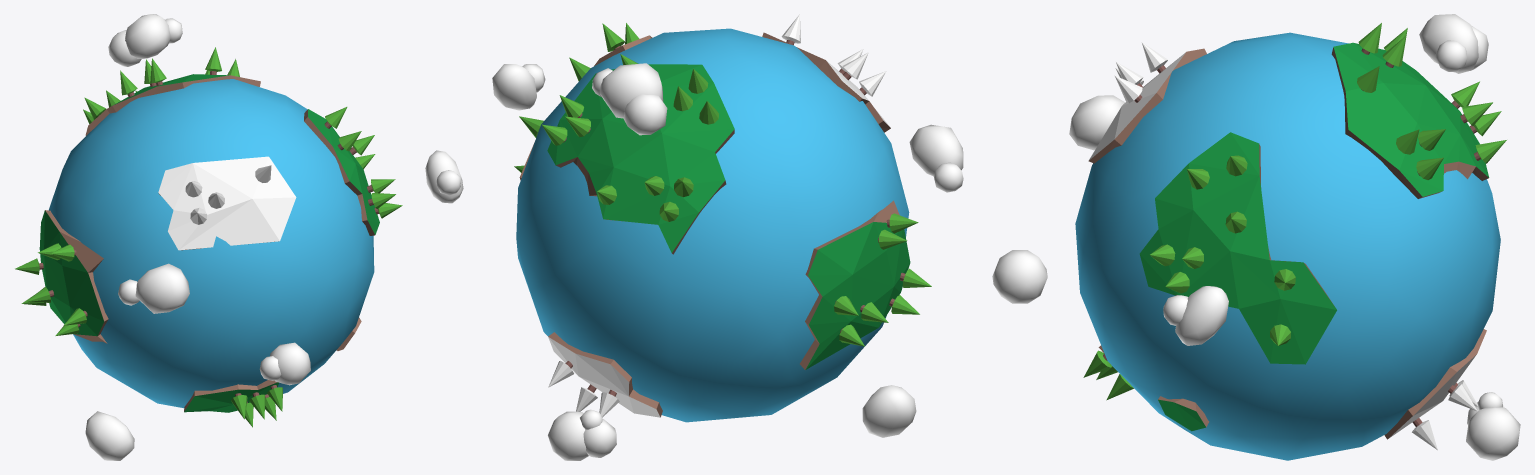
File: Planet.glb
The picture shows the model from 3 angles, left to right: view 1: azimuth 30°, elevation 25°; view 2: azimuth 150°, elevation 25°; view 3: azimuth 270°, elevation 25°; orthographic projection. The views are drawn at different scales.
Parts seen in each view (by area): view 1: Water, Planet, Cloud_03, Cloud_13, Cloud_04, Cloud_06, Cloud_02, Cloud_09, Cloud_07; view 2: Water, Planet, Cloud_13, Cloud_04, Cloud_03, Cloud_02, Cloud_11, Cloud_09, Cloud_10, Cloud_01; view 3: Water, Planet, Cloud_06, Cloud_11, Cloud_02, Cloud_04, Cloud_03, Cloud_08, Cloud_07.
Part boxes in pixels (x1=…): Water: x1=48, y1=79, x2=374, y2=408; Planet: x1=39, y1=74, x2=379, y2=412; Cloud_03: x1=135, y1=263, x2=189, y2=313; Cloud_13: x1=85, y1=411, x2=134, y2=460; Cloud_04: x1=125, y1=14, x2=170, y2=58; Cloud_06: x1=270, y1=342, x2=310, y2=385; Cloud_02: x1=425, y1=150, x2=463, y2=203; Cloud_09: x1=108, y1=30, x2=141, y2=66; Cloud_07: x1=436, y1=170, x2=461, y2=195; Water: x1=516, y1=28, x2=909, y2=422; Planet: x1=519, y1=32, x2=910, y2=417; Cloud_13: x1=862, y1=385, x2=916, y2=437; Cloud_04: x1=599, y1=63, x2=663, y2=118; Cloud_03: x1=909, y1=124, x2=963, y2=176; Cloud_02: x1=492, y1=64, x2=536, y2=110; Cloud_11: x1=548, y1=411, x2=588, y2=460; Cloud_09: x1=623, y1=94, x2=667, y2=135; Cloud_10: x1=583, y1=419, x2=616, y2=457; Cloud_01: x1=933, y1=162, x2=963, y2=192; Water: x1=1075, y1=32, x2=1500, y2=460; Planet: x1=1088, y1=42, x2=1489, y2=439; Cloud_06: x1=992, y1=250, x2=1047, y2=303; Cloud_11: x1=1466, y1=406, x2=1520, y2=460; Cloud_02: x1=1175, y1=286, x2=1228, y2=345; Cloud_04: x1=1419, y1=14, x2=1478, y2=73; Cloud_03: x1=1069, y1=95, x2=1125, y2=150; Cloud_08: x1=1435, y1=40, x2=1466, y2=72; Cloud_07: x1=1163, y1=295, x2=1188, y2=325.
Size of the model in its own units: 5.6 by 4.82 by 5.21.
1 material, 1 textured.
